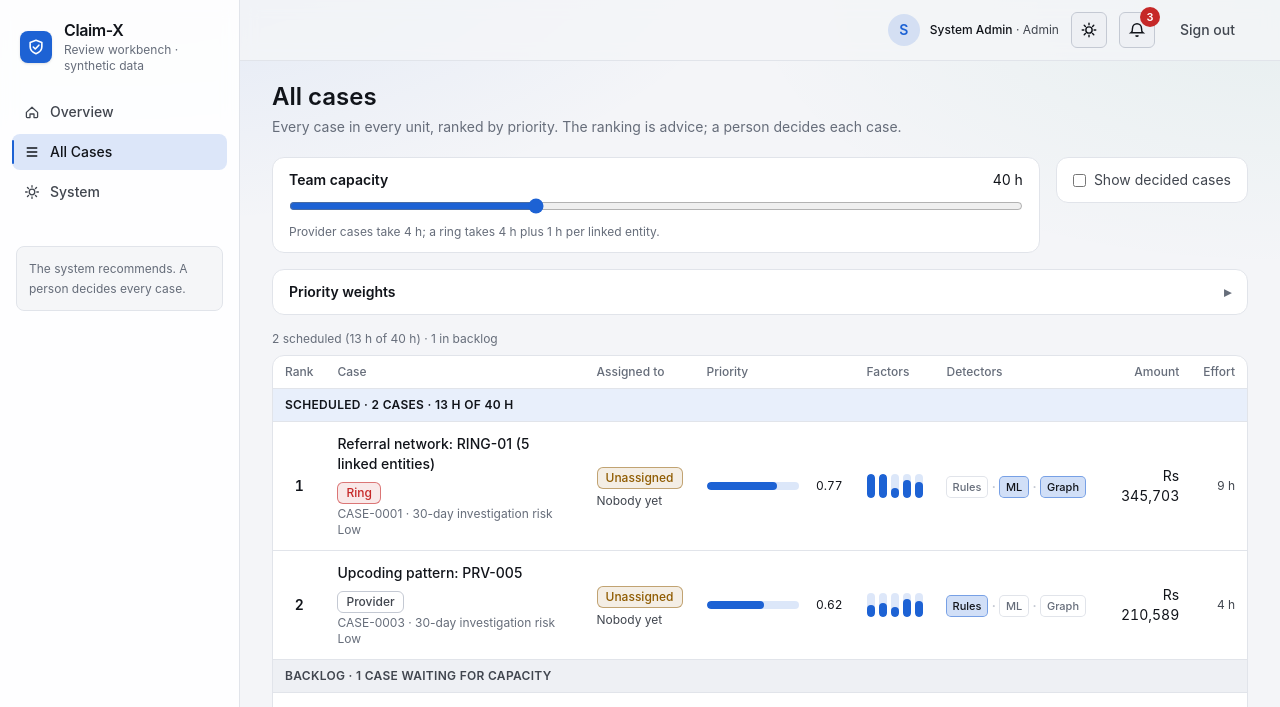
Test: notification bell › shows the unread count and groups the list with high priority first
Expected: the text with test id "unread-count" reads "3", [1146, 10, 1154, 24]
What coordinates should you click on to do the following:
click the button named "Notifications, 3 unread"
I would click on:
 (1137, 30)
Its box is [1119, 12, 1155, 48].
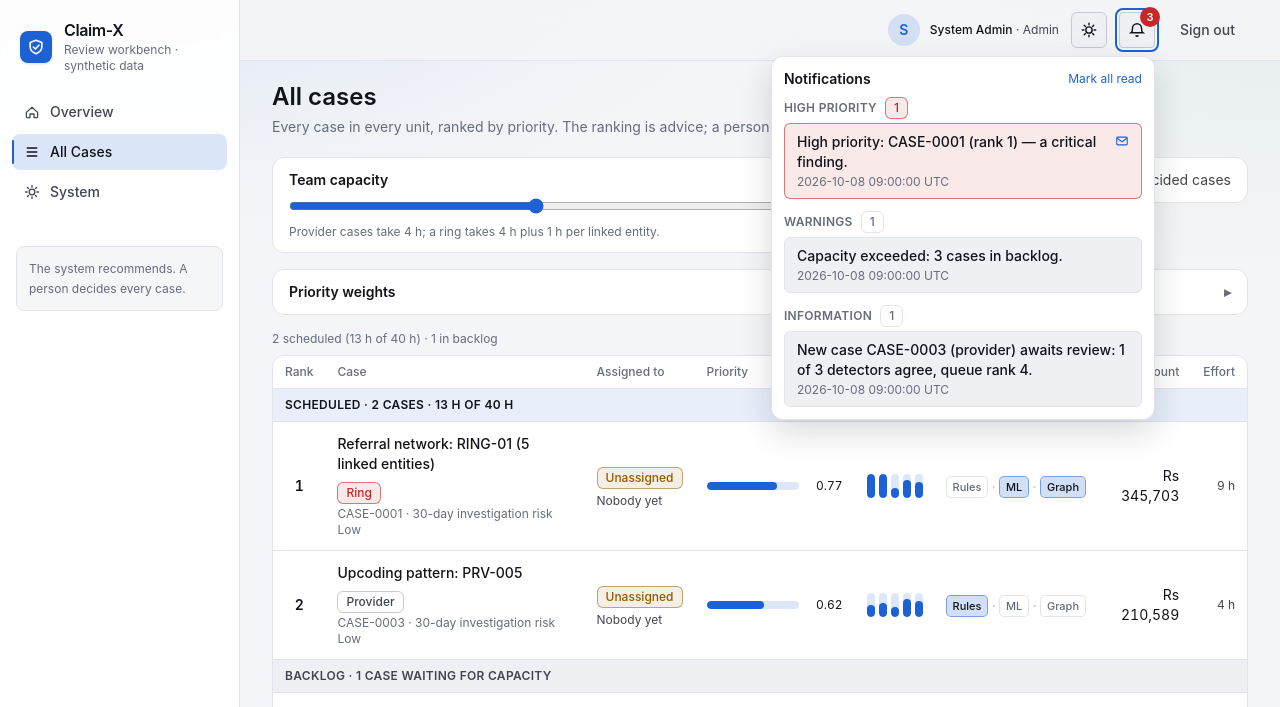
Expected: the list item with test id "notification" shows "High priority: CASE-0001", [784, 123, 1142, 199]
Expected: the element with test id "email-sent" is shown, [1115, 134, 1129, 148]
